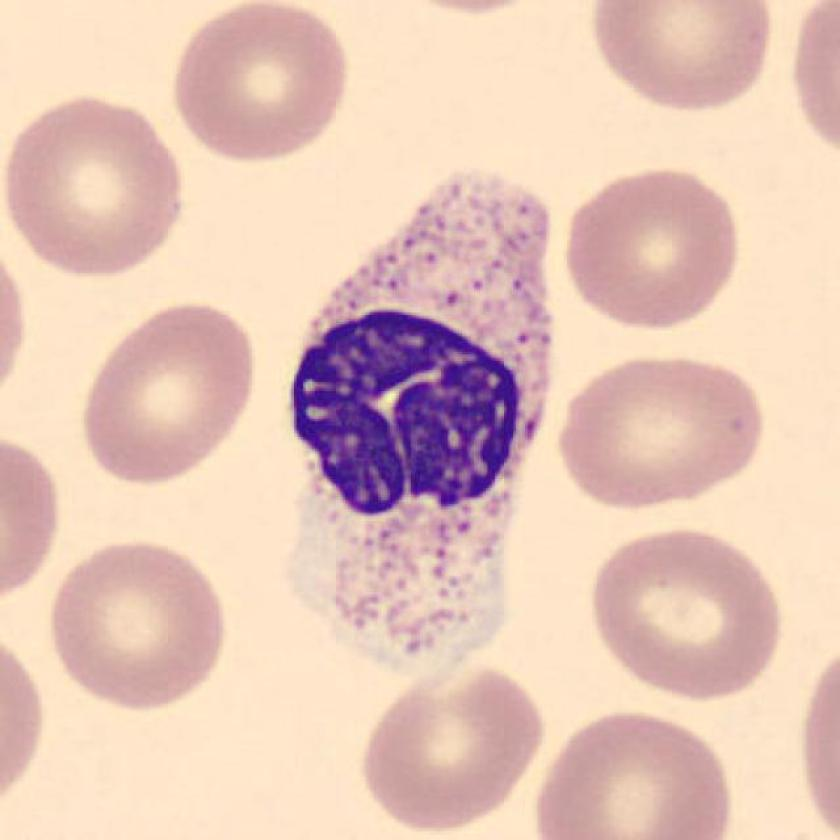neutrophil: (285, 170, 558, 676)
